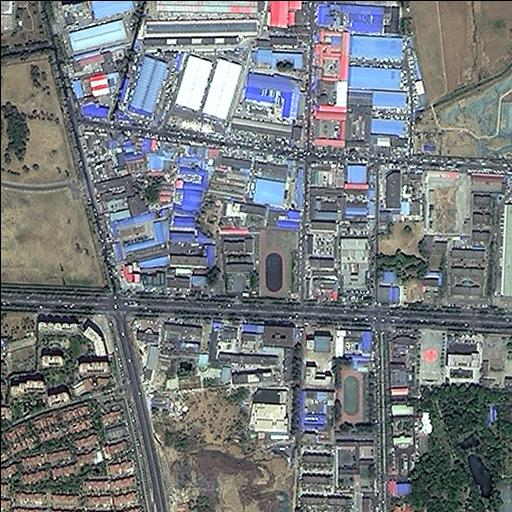school: (219, 227, 297, 299), (335, 355, 375, 489)
